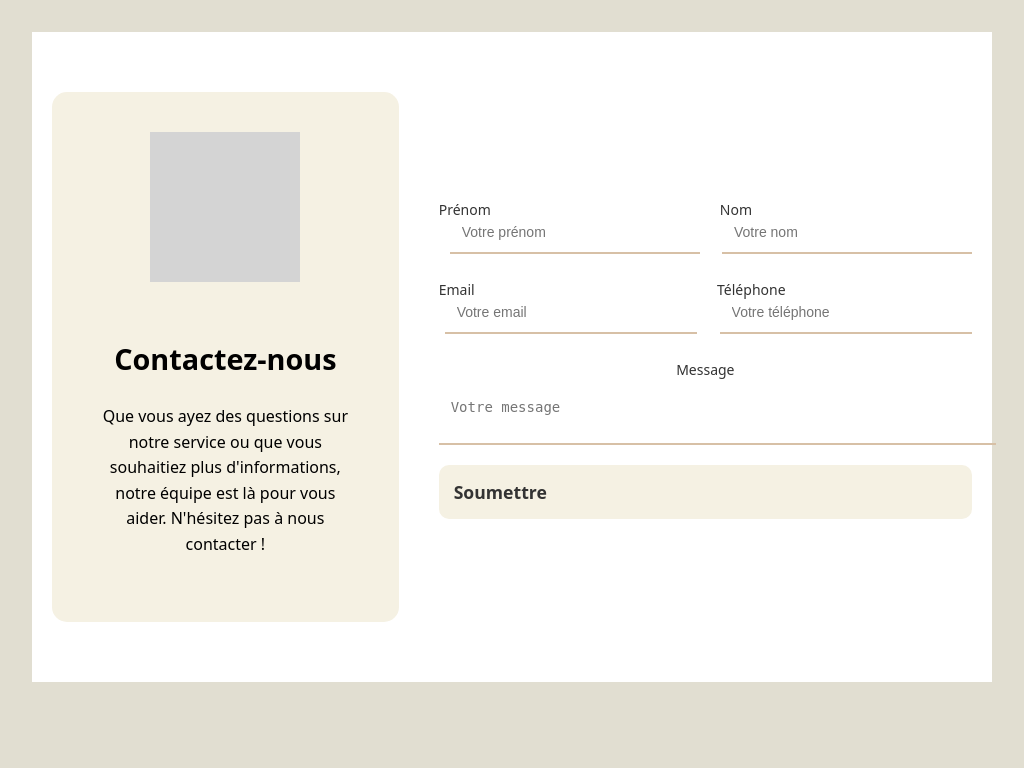
Test: ContactSection › shows the success message after form submission
# Fill out the form fields
Type "Test" into the field labelled "Prénom" at [575, 233], box [450, 212, 700, 254]
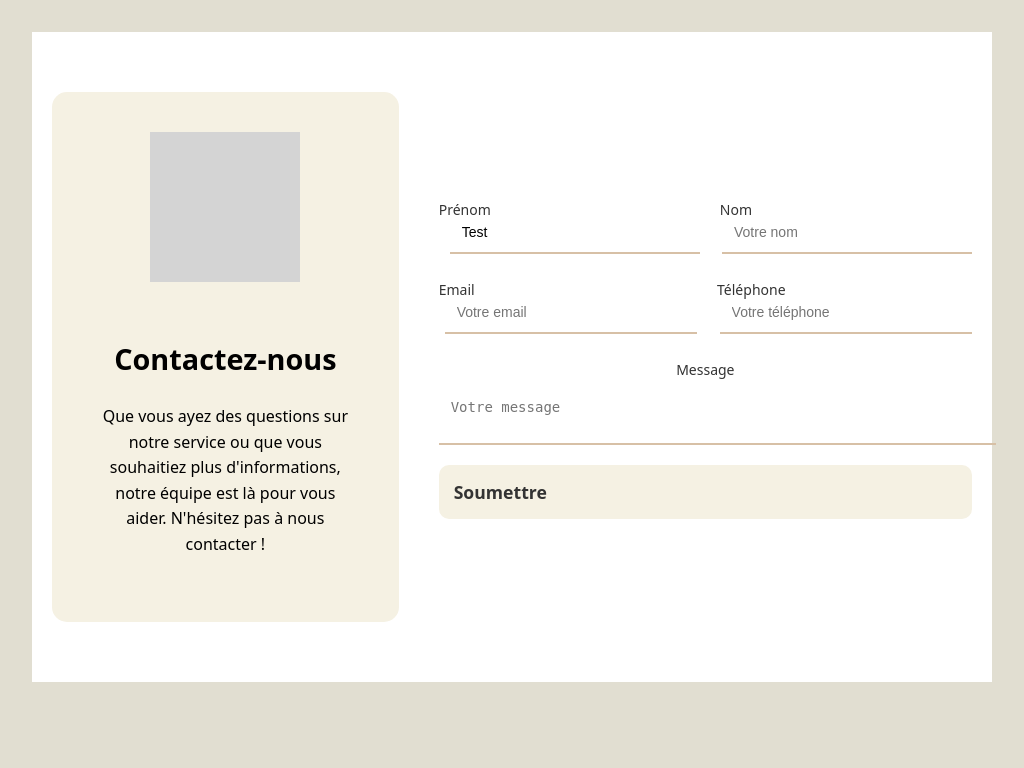
Type "User" into the field labelled "Nom" at [847, 233], box [722, 212, 972, 254]
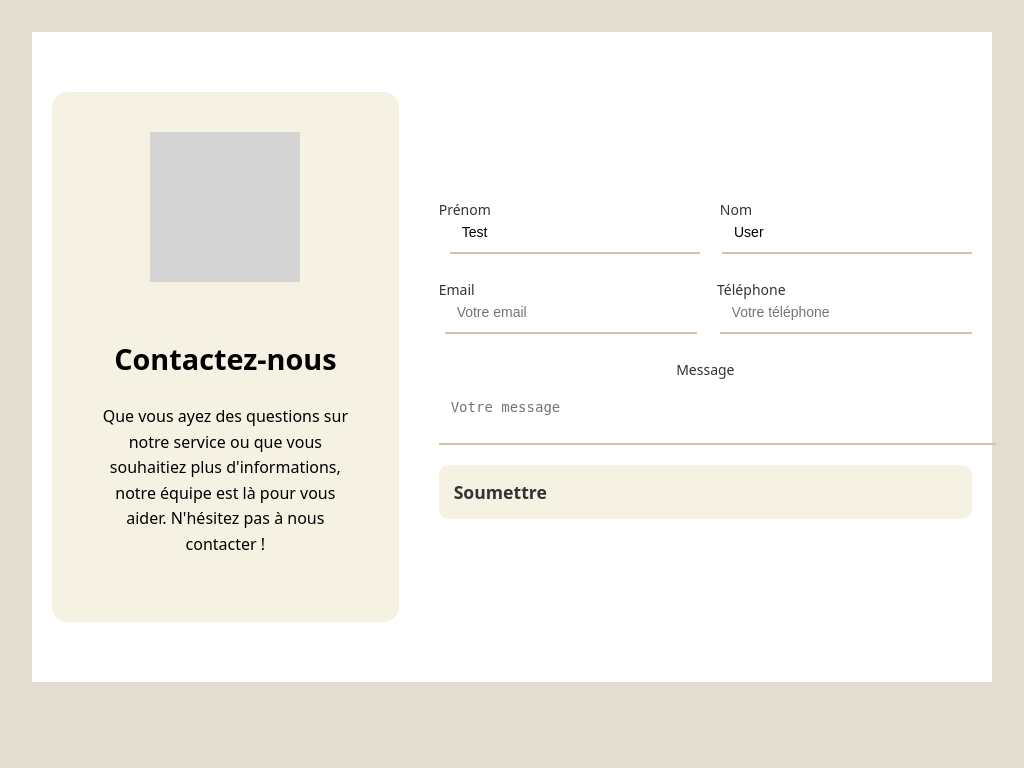
Type "test@email.com" into the field labelled "Email" at [571, 313], box [445, 292, 697, 334]
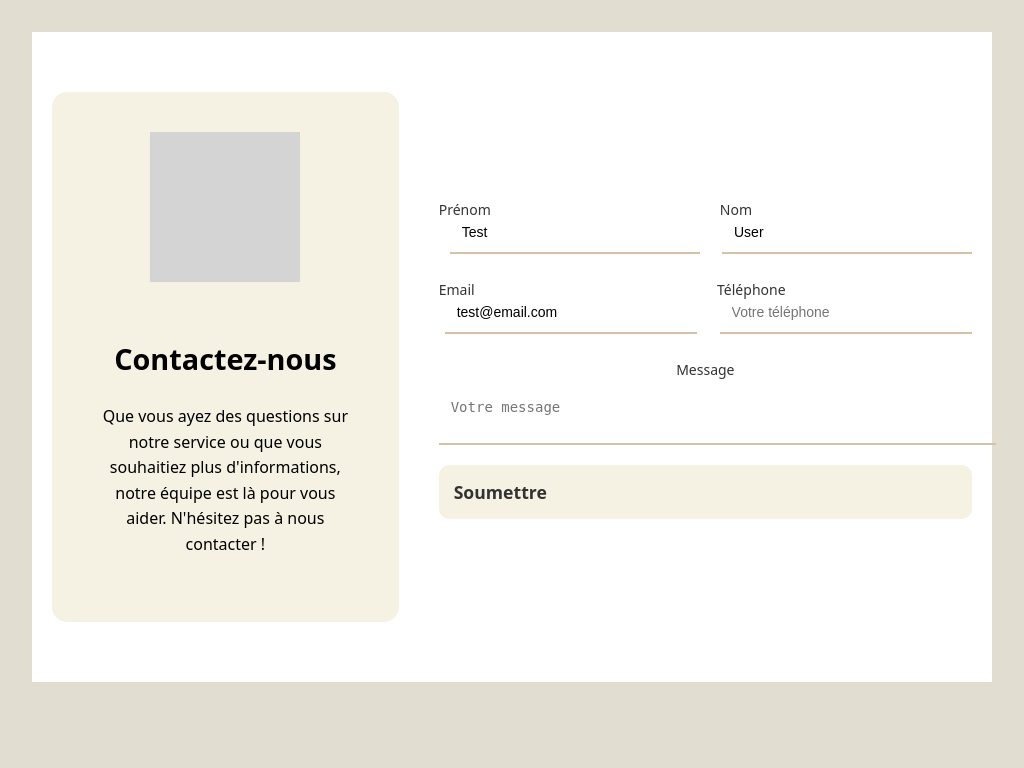
Type "0600000000" into the field labelled "Téléphone" at [846, 313], box [720, 292, 972, 334]
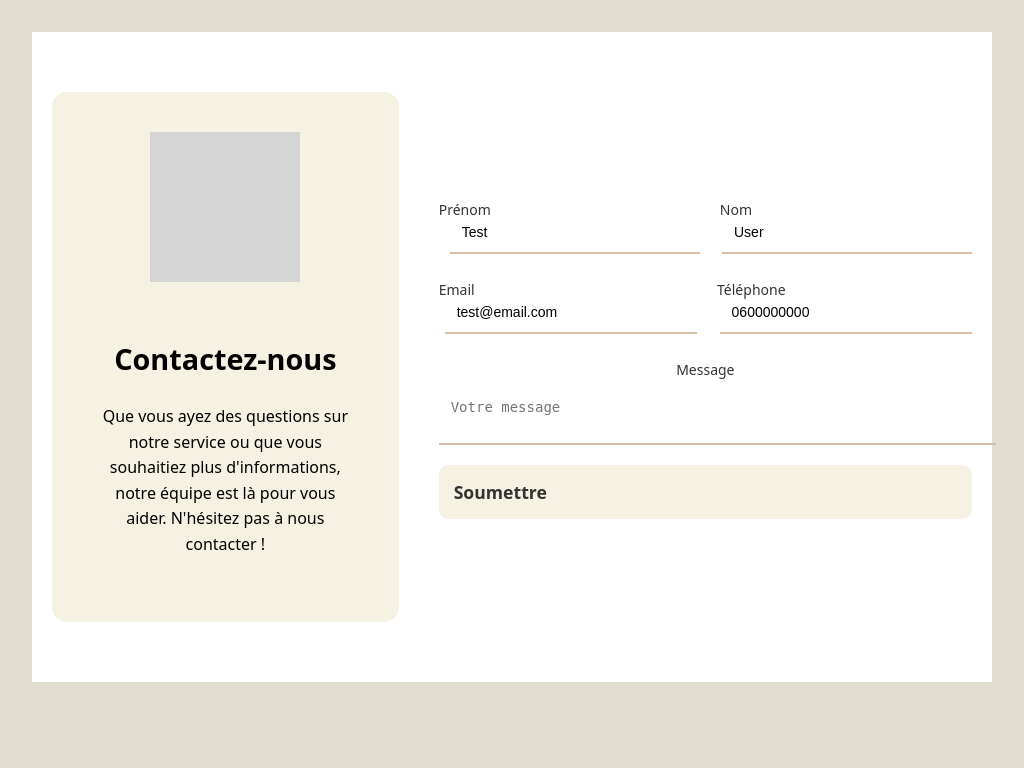
Type "Hello world!" into the text box labelled "Message" at [717, 416], box [439, 387, 996, 445]
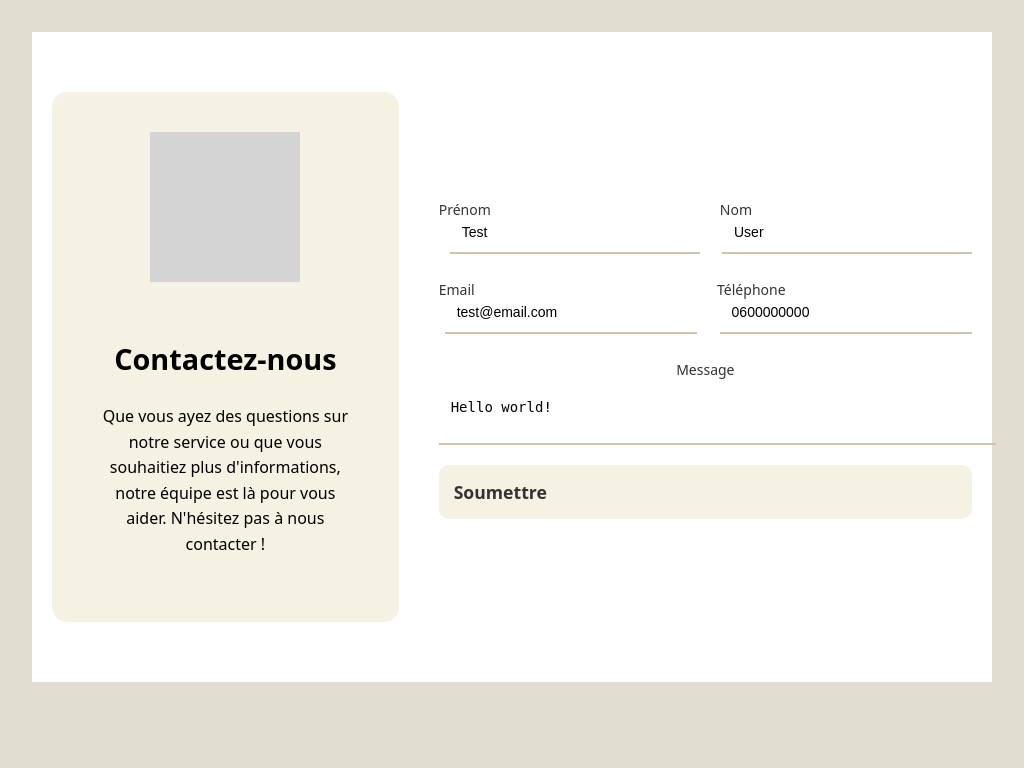
# Submit the form
Click the button "Soumettre" at [500, 492], box [439, 465, 972, 519]
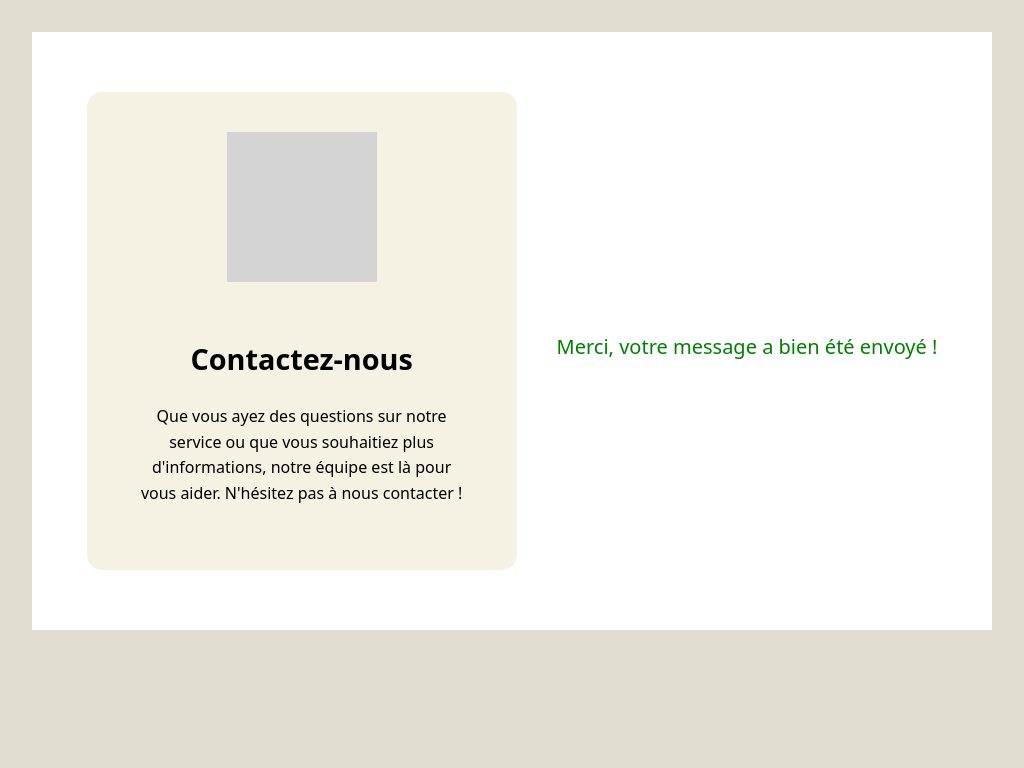
Check: the text "Merci, votre message a bien été envoyé !" is shown, box [557, 332, 937, 362]
